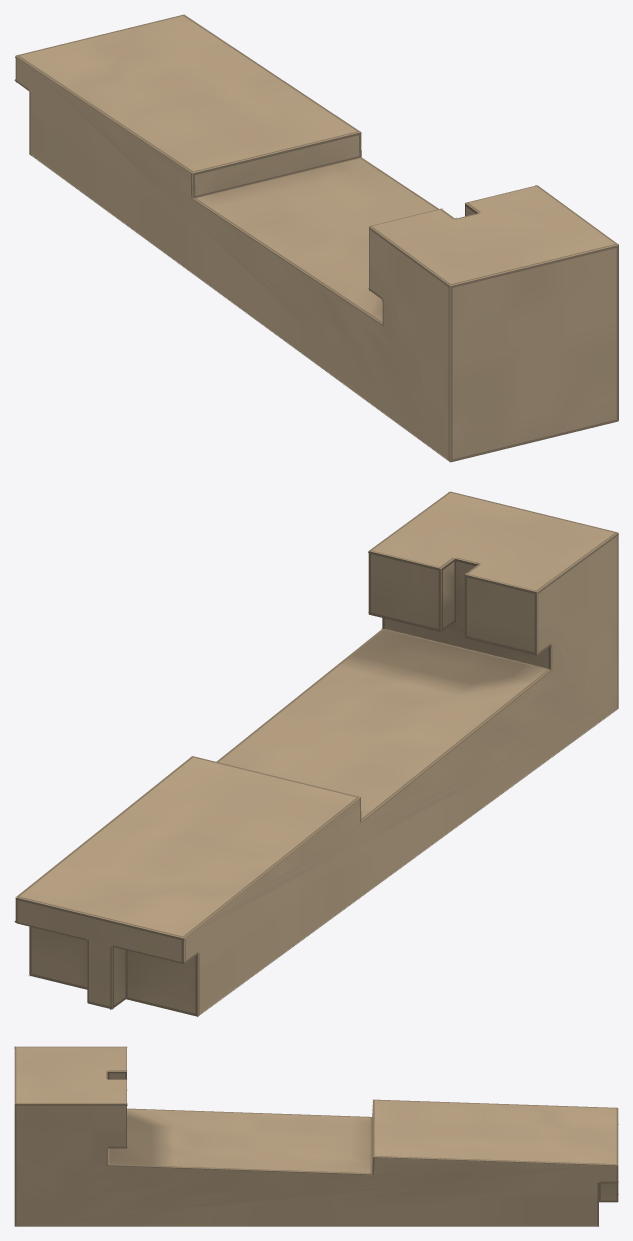
3 renders of one model, top to bottom at view 1: azimuth 30°, elevation 25°; view 2: azimuth 150°, elevation 25°; view 3: azimuth 270°, elevation 25°, orthographic. The views are drawn at different scales.
Parts seen in each view (by area): view 1: part-a; view 2: part-a; view 3: part-a.
Boxes of the visible parts, x1,y1,x2,y2 form: part-a: (14, 14, 618, 462); part-a: (14, 491, 618, 1016); part-a: (14, 1046, 618, 1226).
Size of the model in its own units: 0.1227 by 0.1224 by 0.5385.
